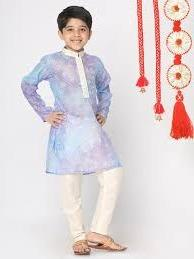Human: (26, 9, 132, 253)
